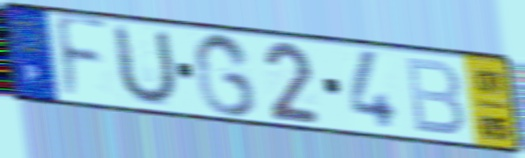2: (261, 38, 324, 128)
4: (348, 45, 400, 135)
B: (402, 54, 468, 139)
F: (52, 12, 112, 104)
G: (191, 30, 260, 120)
U: (112, 21, 181, 108)
